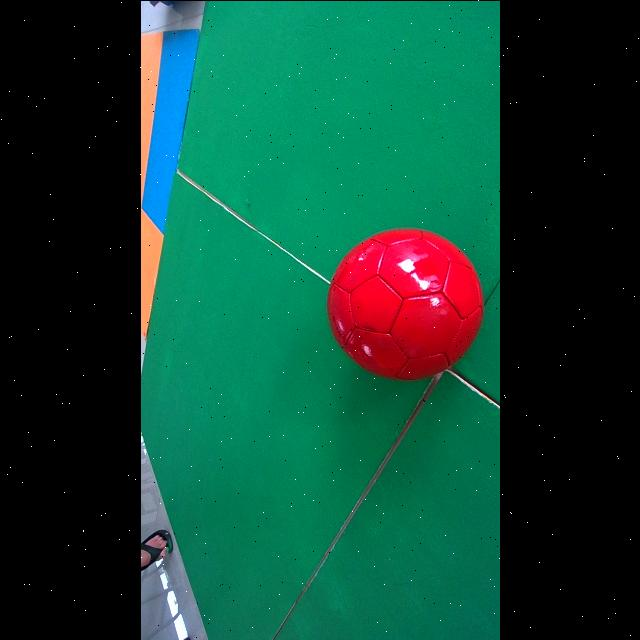R: (326, 227, 482, 379)
